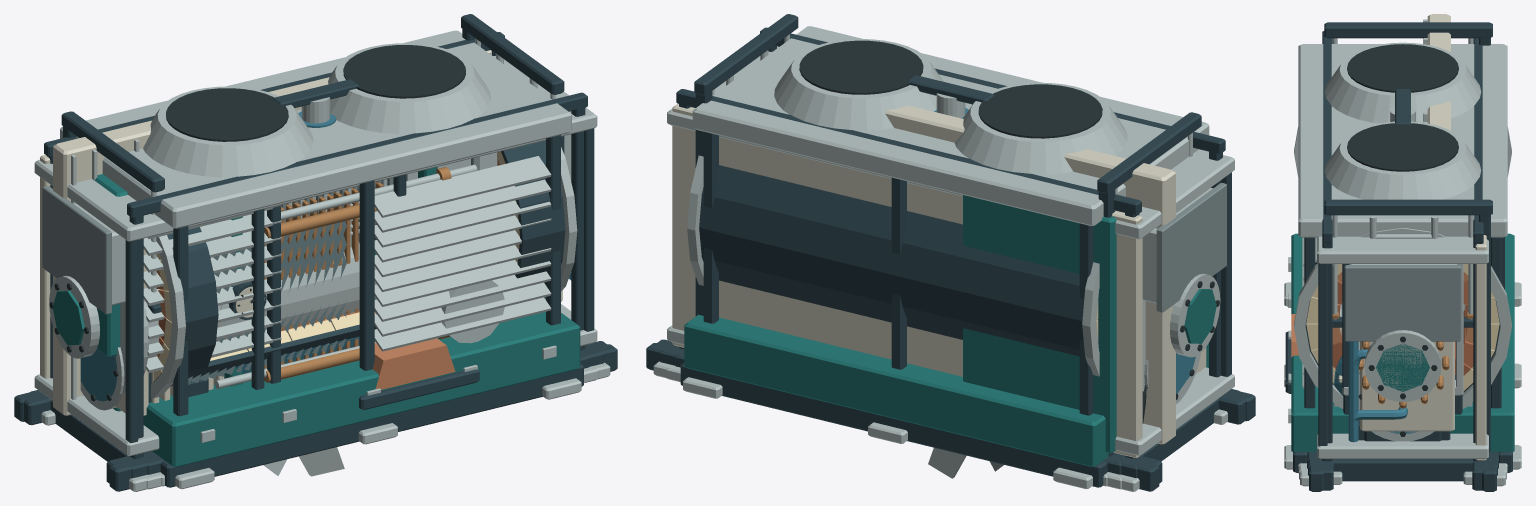
File: exhibits.glb
The picture shows the model from 3 angles, left to right: view 1: azimuth 30°, elevation 25°; view 2: azimuth 150°, elevation 25°; view 3: azimuth 270°, elevation 25°; orthographic projection. The views are drawn at different scales.
Parts seen in each view (by area): view 1: Exhibit01, Exhibit03, Exhibit15, Exhibit11, Exhibit10, Exhibit12, Exhibit04, Exhibit13, Exhibit08, Exhibit16, Exhibit07, Exhibit14 (+3 smaller); view 2: Exhibit01, Exhibit15, Exhibit03, Exhibit05, Exhibit11, Exhibit13, Exhibit10, Exhibit07, Exhibit16, Exhibit08, Exhibit04, Impeller (+1 smaller); view 3: Exhibit01, Exhibit11, Exhibit03, Exhibit15, Exhibit10, Exhibit13, Exhibit07, Exhibit16, Exhibit12, Exhibit04, Exhibit08.
Boxes of the visible parts, <box> form: Exhibit01: <box>60,30,583,489</box>; Exhibit03: <box>32,50,599,464</box>; Exhibit15: <box>141,140,595,487</box>; Exhibit11: <box>42,14,571,314</box>; Exhibit10: <box>44,32,605,479</box>; Exhibit12: <box>28,136,603,464</box>; Exhibit04: <box>24,241,606,483</box>; Exhibit13: <box>53,77,608,479</box>; Exhibit08: <box>80,79,358,410</box>; Exhibit16: <box>14,303,617,491</box>; Exhibit07: <box>49,275,99,358</box>; Exhibit14: <box>214,164,477,388</box>; Exhibit01: <box>680,26,1209,488</box>; Exhibit15: <box>669,155,1127,487</box>; Exhibit03: <box>665,46,1236,464</box>; Exhibit05: <box>963,195,1116,453</box>; Exhibit11: <box>694,14,1226,456</box>; Exhibit13: <box>653,105,1246,479</box>; Exhibit10: <box>658,27,1225,479</box>; Exhibit07: <box>1170,273,1220,357</box>; Exhibit16: <box>646,343,1255,491</box>; Exhibit08: <box>907,75,1200,403</box>; Exhibit04: <box>657,300,1245,483</box>; Impeller: <box>928,447,1003,478</box>; Exhibit01: <box>1284,42,1521,472</box>; Exhibit11: <box>1324,22,1492,452</box>; Exhibit03: <box>1313,235,1492,465</box>; Exhibit15: <box>1285,127,1511,462</box>; Exhibit10: <box>1301,31,1504,471</box>; Exhibit13: <box>1303,14,1502,474</box>; Exhibit07: <box>1364,330,1441,401</box>; Exhibit16: <box>1300,303,1505,491</box>; Exhibit12: <box>1318,264,1487,468</box>; Exhibit04: <box>1320,303,1485,490</box>; Exhibit08: <box>1358,89,1434,441</box>.
Bounding box in the file's own units: 5.66 × 4.14 × 2.55.
